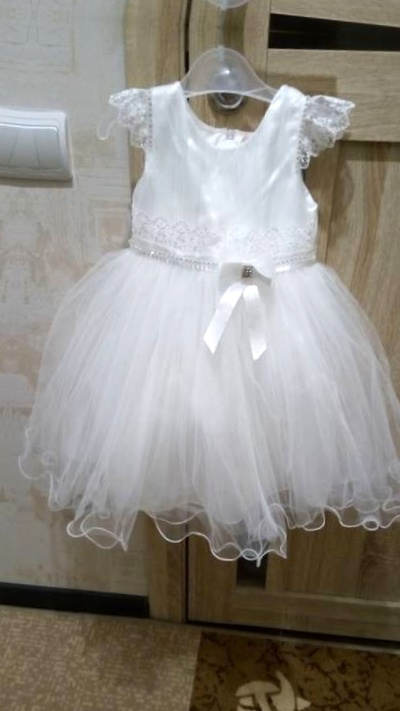Dress: (11, 44, 400, 582), (0, 15, 18, 554), (49, 0, 400, 14)
